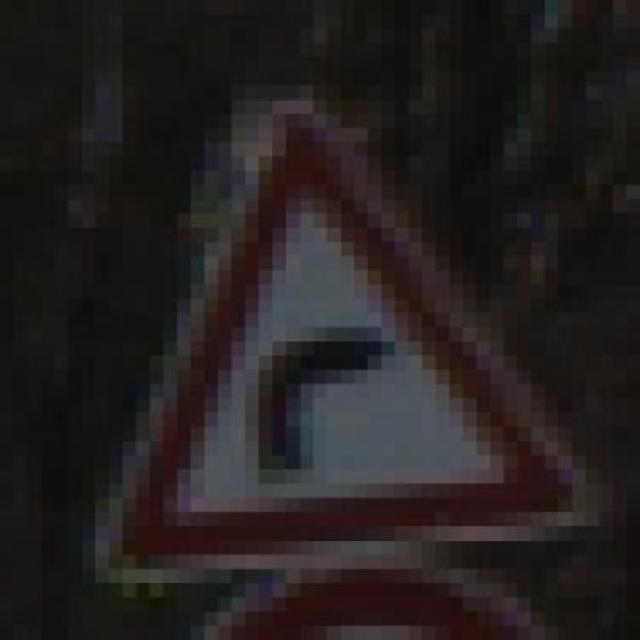Dangerous Rright Curve Ahead: (69, 85, 613, 583)
